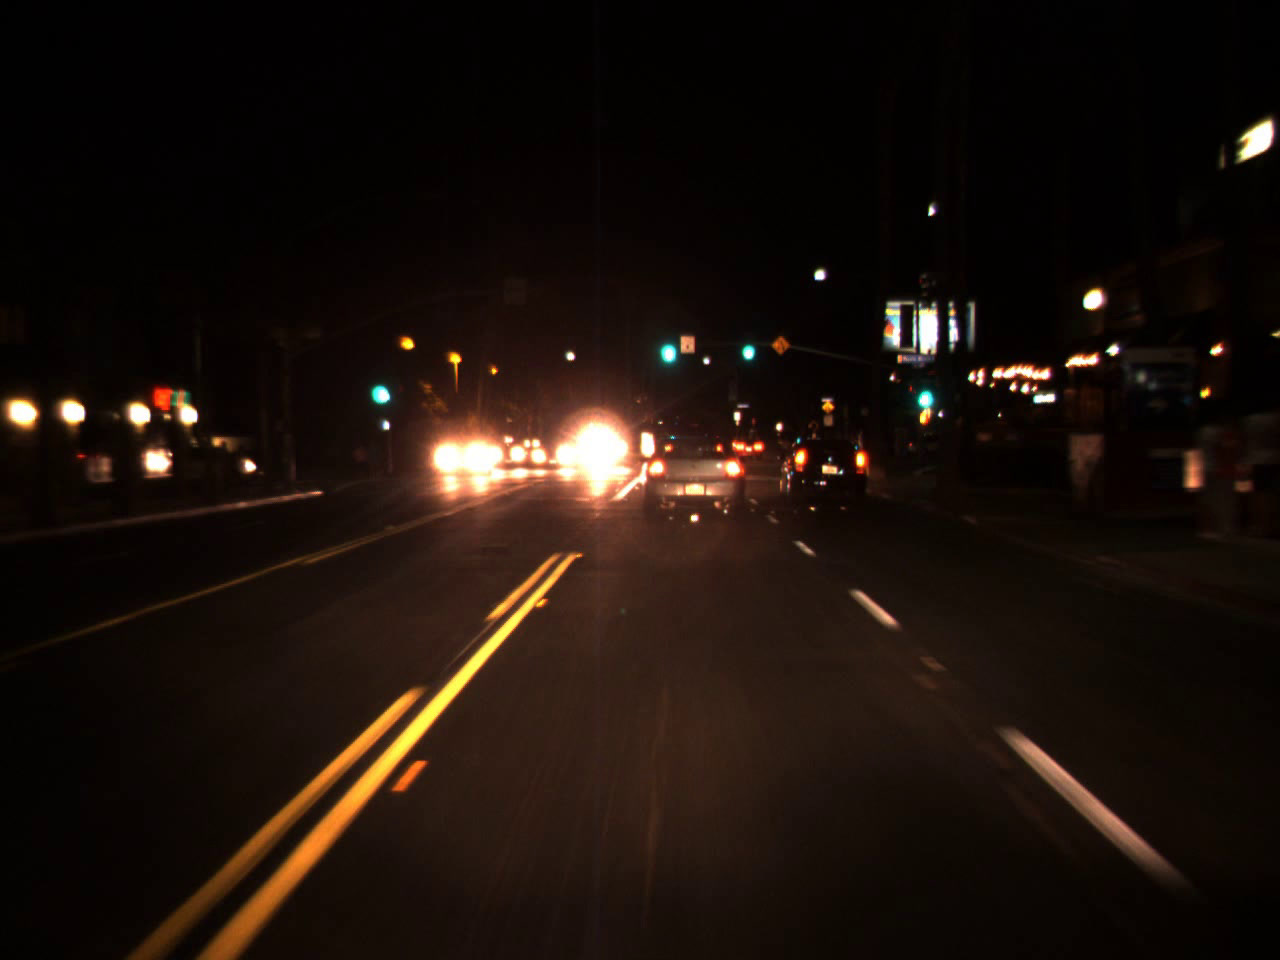go: (365, 363, 392, 411), (655, 319, 680, 370), (911, 368, 936, 416), (737, 329, 756, 362)
